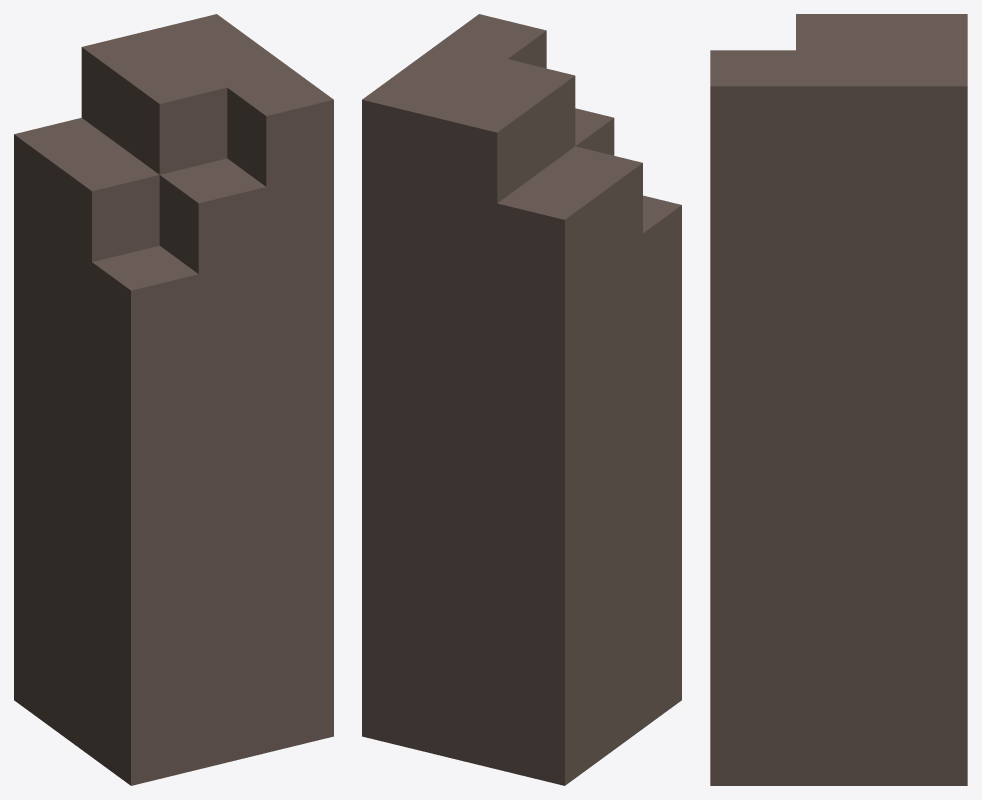
File: sheep__leg_bl.glb
The picture shows the model from 3 angles, left to right: view 1: azimuth 30°, elevation 25°; view 2: azimuth 150°, elevation 25°; view 3: azimuth 270°, elevation 25°; orthographic projection. The views are drawn at different scales.
Parts seen in each view (by area): view 1: sheep__leg_bl; view 2: sheep__leg_bl; view 3: sheep__leg_bl.
Boxes of the visible parts, x1,y1,x2,y2 form: sheep__leg_bl: (14, 14, 333, 785); sheep__leg_bl: (362, 14, 681, 785); sheep__leg_bl: (710, 14, 967, 785).
Size of the model in its own units: 0.3 by 0.9 by 0.3.
1 material, 1 textured.
